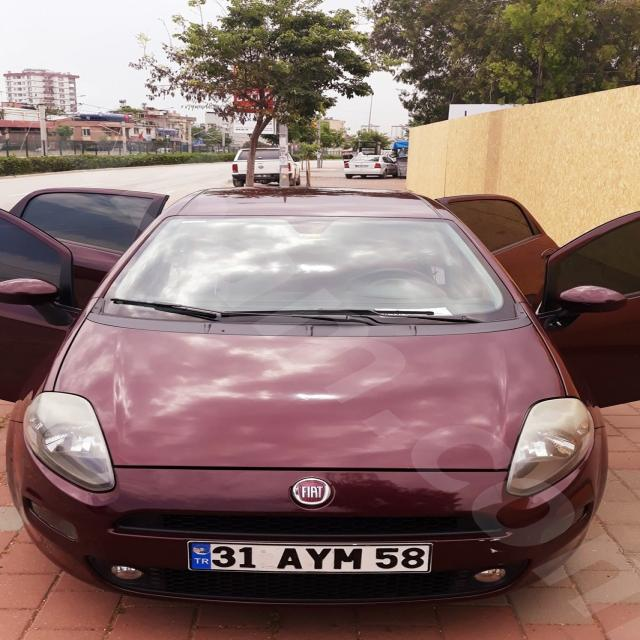license_plate: (186, 540, 432, 574)
